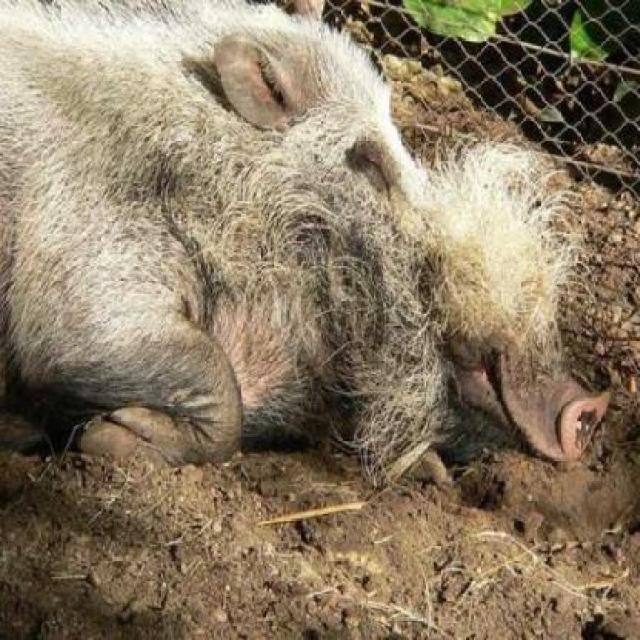pig: (0, 0, 638, 502)
